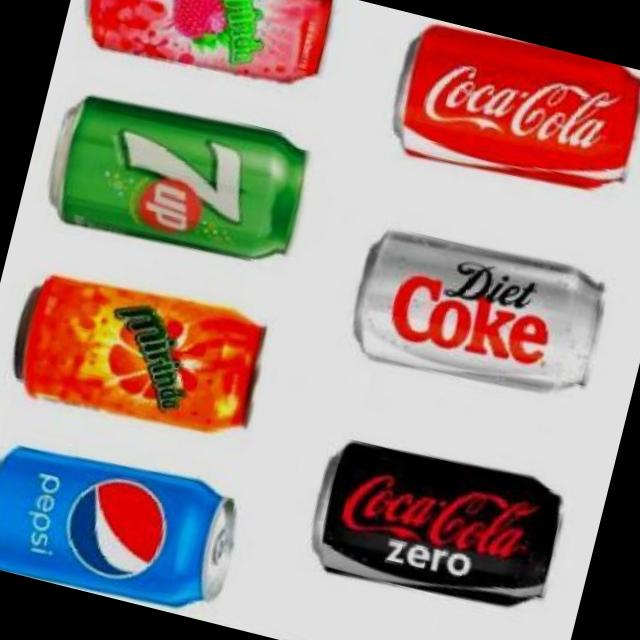can: (31, 76, 321, 284), (296, 422, 578, 632), (338, 215, 616, 418), (0, 256, 280, 457), (376, 13, 640, 215), (0, 428, 254, 625), (68, 0, 344, 107)
